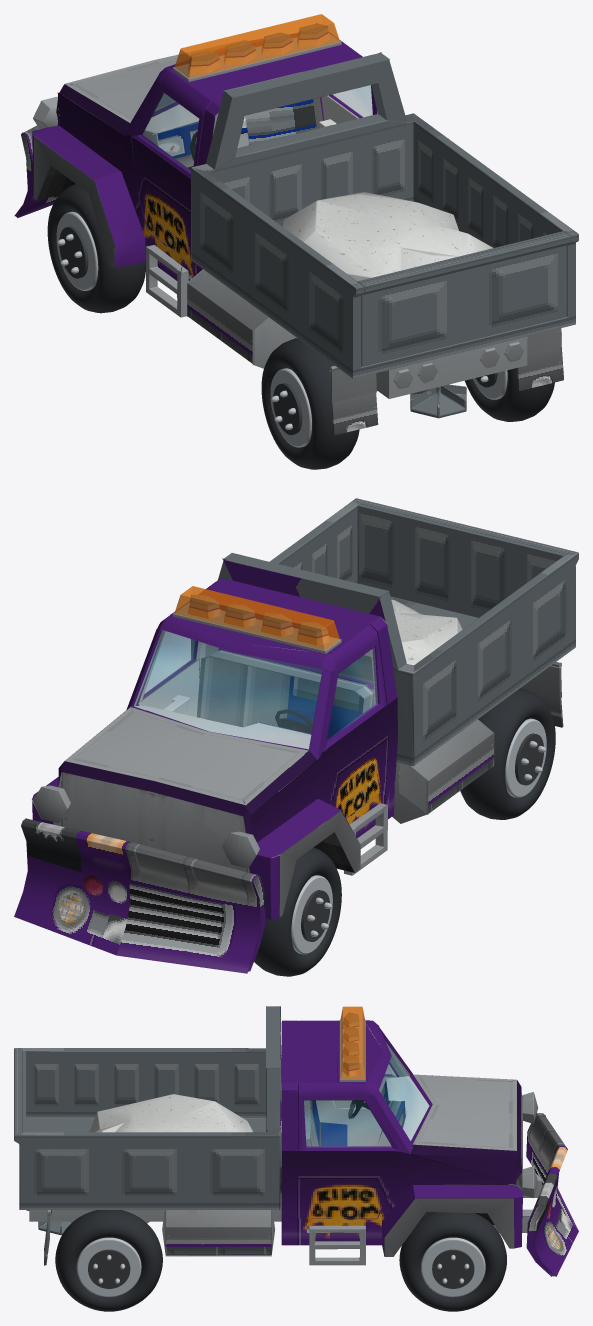
Rendered from car-plowk_v.glb.
3 views of the same model, one above another, from view 1: azimuth 30°, elevation 25°; view 2: azimuth 150°, elevation 25°; view 3: azimuth 270°, elevation 25° (orthographic). The views are drawn at different scales.
Parts seen in each view (by area): view 1: plowk_vShape.003, plowk_vShape.005, TrunkRotShape.001, plowk_vShape.002, plowk_vShape.009, Rounded tire.007, plowk_vShape.008, plowk_vShape.004, Rounded tire.004, plowk_vShape.006, DoorDRotShape.006, DoorDRotShape.009 (+11 smaller); view 2: plowk_vShape.005, plowk_vShape.003, TrunkRotShape.001, plowk_vShape.007, plowk_vShape.006, plowk_vShape.009, HoodRotShape.001, plowk_vShape.004, Rounded tire.007, plowk_vShape.008, DoorDRotShape.006, Rounded tire.004 (+10 smaller); view 3: plowk_vShape.003, plowk_vShape.005, plowk_vShape.004, DoorPRotShape.006, Rounded tire.006, Rounded tire.005, plowk_vShape.009, HoodRotShape.001, plowk_vShape.002, plowk_vShape.006, DoorPRotShape.009, DoorPRotShape.007 (+9 smaller).
Boxes of the visible parts, x1,y1,x2,y2 form: plowk_vShape.003: (191,113,578,378); plowk_vShape.005: (14,23,563,435); TrunkRotShape.001: (357,231,570,366); plowk_vShape.002: (281,192,492,281); plowk_vShape.009: (187,45,407,169); Rounded tire.007: (261,338,359,469); plowk_vShape.008: (174,14,339,78); plowk_vShape.004: (56,84,202,280); Rounded tire.004: (47,184,145,313); plowk_vShape.006: (143,97,322,167); DoorDRotShape.006: (131,137,196,266); DoorDRotShape.009: (141,92,198,171); plowk_vShape.005: (14,579,563,973); plowk_vShape.003: (191,498,578,766); TrunkRotShape.001: (357,500,570,617); plowk_vShape.007: (134,630,322,748); plowk_vShape.006: (134,630,375,824); plowk_vShape.009: (200,553,406,669); HoodRotShape.001: (78,713,294,798); plowk_vShape.004: (58,697,397,842); Rounded tire.007: (460,688,555,819); plowk_vShape.008: (174,586,339,650); DoorDRotShape.006: (324,705,387,817); Rounded tire.004: (254,847,341,976); plowk_vShape.003: (14,1048,281,1209); plowk_vShape.005: (26,1012,578,1276); plowk_vShape.004: (281,1075,521,1245); DoorPRotShape.006: (298,1151,399,1218); Rounded tire.006: (55,1210,162,1311); Rounded tire.005: (399,1212,506,1311); plowk_vShape.009: (266,1006,337,1129); HoodRotShape.001: (422,1078,508,1146); plowk_vShape.002: (89,1094,253,1132); plowk_vShape.006: (304,1024,429,1147); DoorPRotShape.009: (304,1100,391,1146); DoorPRotShape.007: (298,1083,400,1219).
Size of the model in its own units: 2.9 by 3.16 by 6.84.
14 materials, 11 textured.
